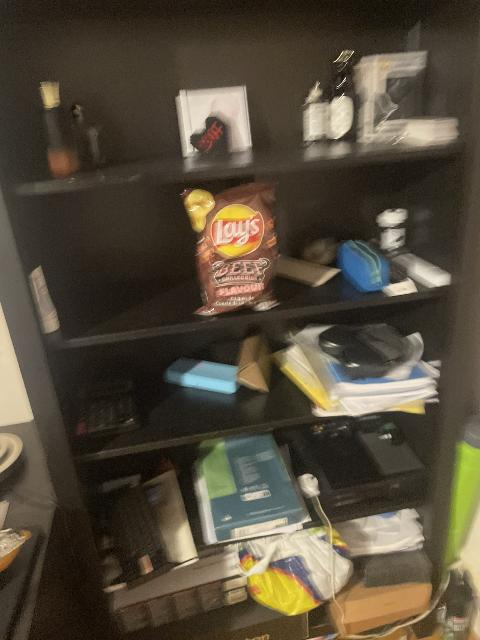Lays Beef Grilled Ribs 125g: (183, 182, 281, 315)
